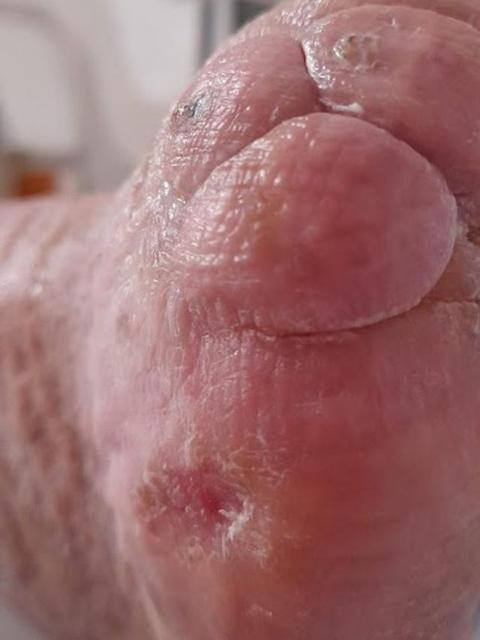wound: (133, 449, 264, 556)
